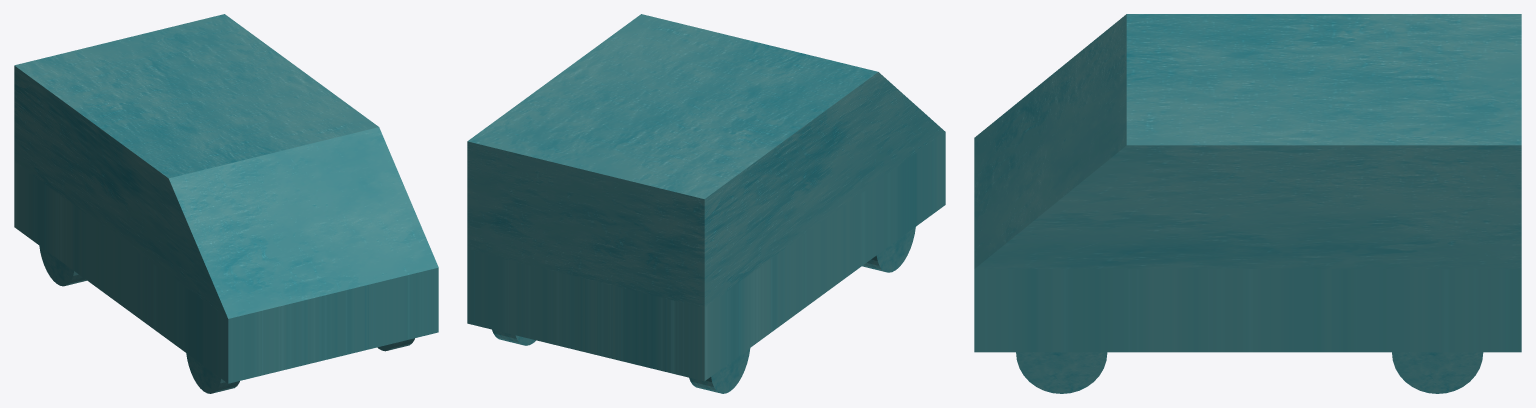
The model's file is ultrsalowpolycar.obj.
3 views of the same model, side by side, from view 1: azimuth 30°, elevation 25°; view 2: azimuth 150°, elevation 25°; view 3: azimuth 270°, elevation 25° (orthographic). The views are drawn at different scales.
Visible parts, largest first — view 1: Cube; view 2: Cube; view 3: Cube.
Part boxes in pixels (x1,y1,x2,y2): Cube: [14, 14, 438, 393]; Cube: [467, 14, 945, 393]; Cube: [974, 14, 1521, 393].
Bounding box in the file's own units: 1.32 × 1.18 × 2.33.
